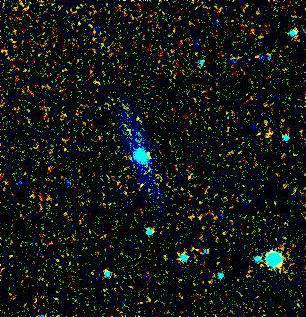star: (133, 139, 163, 169)
